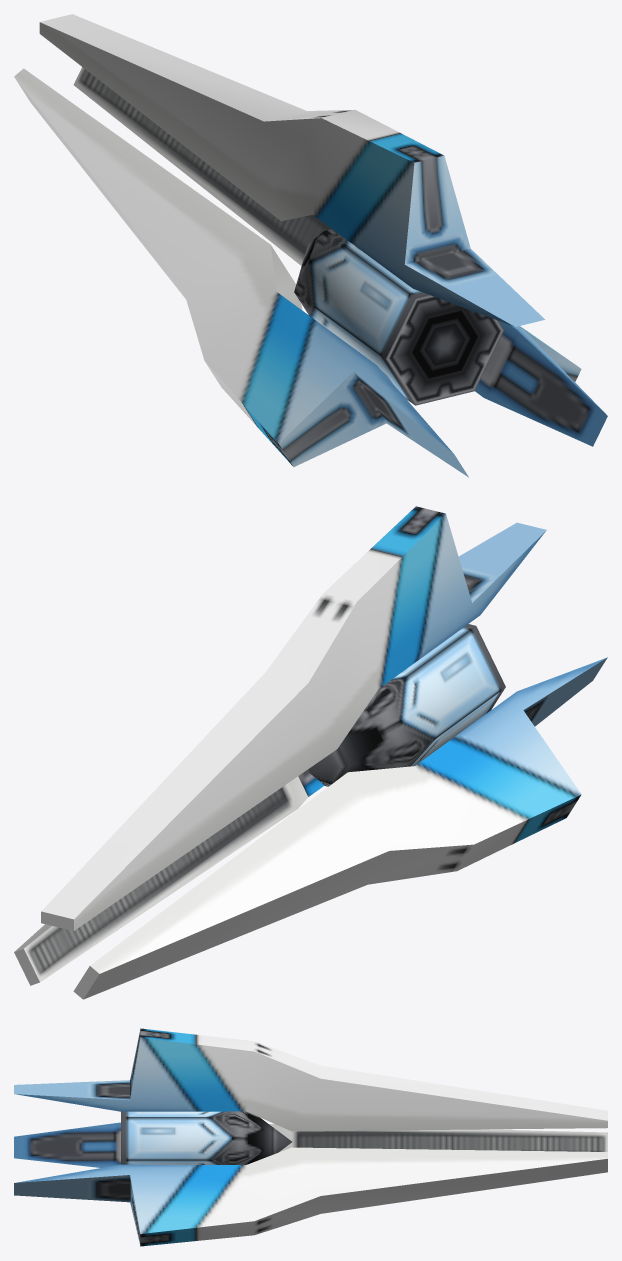
The picture shows the model from 3 angles, top to bottom: view 1: azimuth 30°, elevation 25°; view 2: azimuth 150°, elevation 25°; view 3: azimuth 270°, elevation 25°; orthographic projection. The views are drawn at different scales.
Visible parts, largest first — view 1: body; view 2: body; view 3: body.
Boxes of the visible parts, left/top/right/bottom form: body: left=14, top=14, right=607, bottom=477; body: left=14, top=506, right=607, bottom=999; body: left=14, top=1028, right=607, bottom=1246.
Bounding box in the file's own units: 3.03 × 2.63 × 8.22.
1 material, 1 textured.
